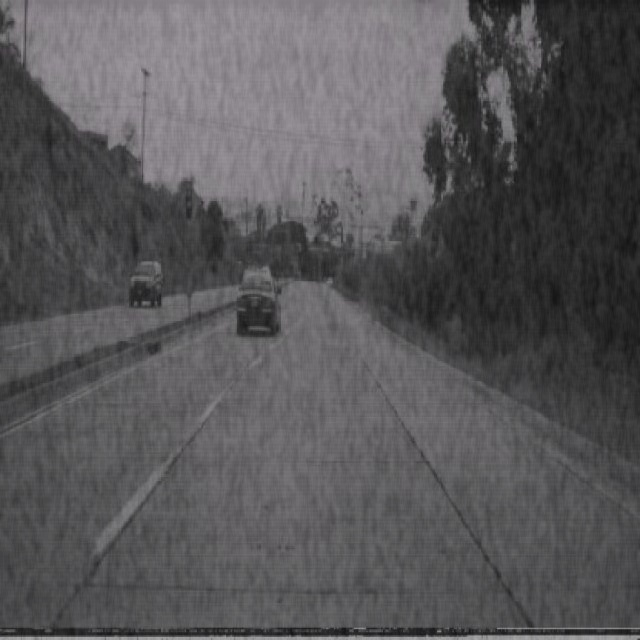signalAhead: (177, 178, 201, 228), (422, 217, 446, 266)
